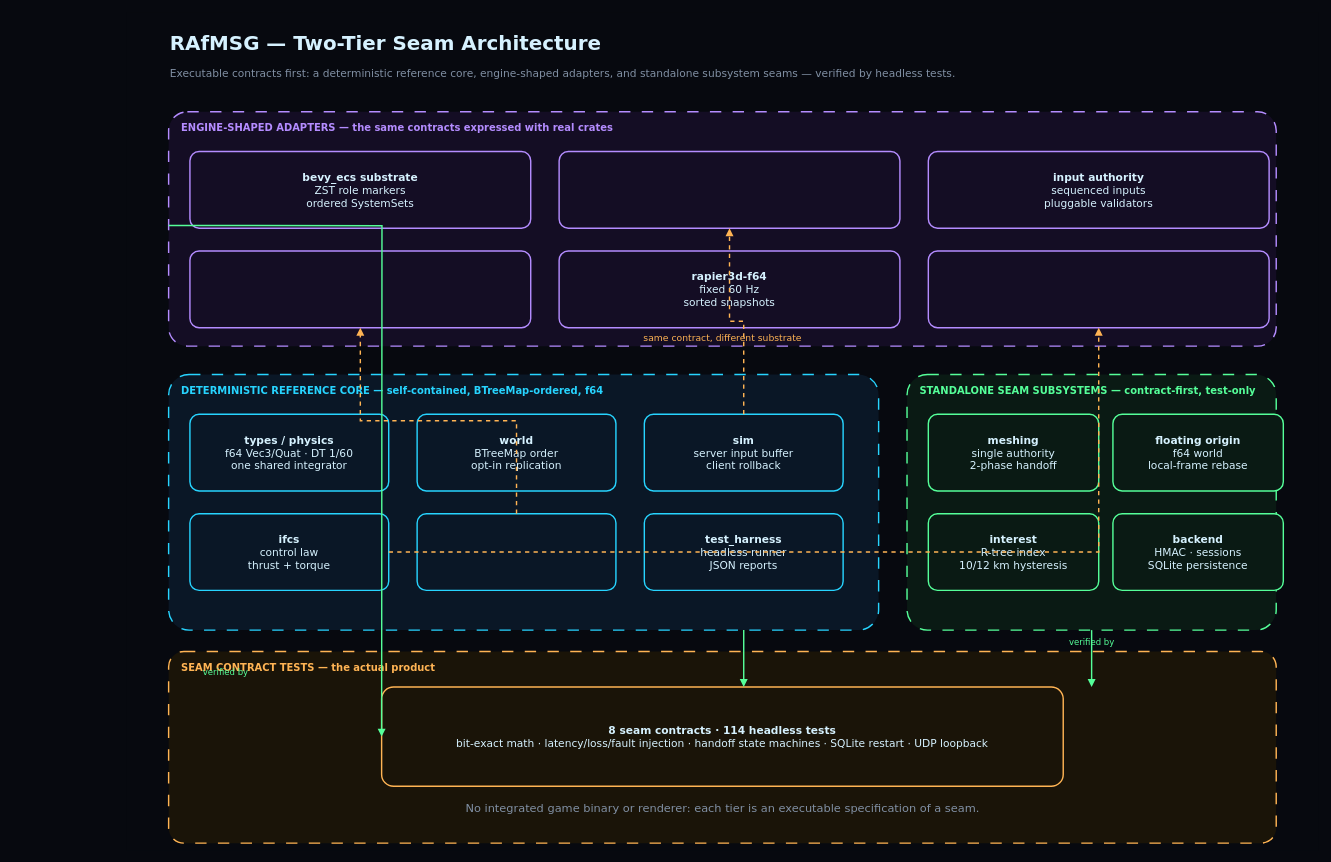
This 1331x862 diagram has some shape labels left out. The centre of each missing label's shape, as x and y in pixels:
flight dynamics 12-thruster allocation g-limit clamps: the point at 1098,289
lightyear prediction HistoryBuffer 10-tick rollback cap: the point at 729,190
net seeded LCG latency/jitter/loss: the point at 516,552
network adapter bincode · UDP · delta ARQ · heartbeat: the point at 360,289
